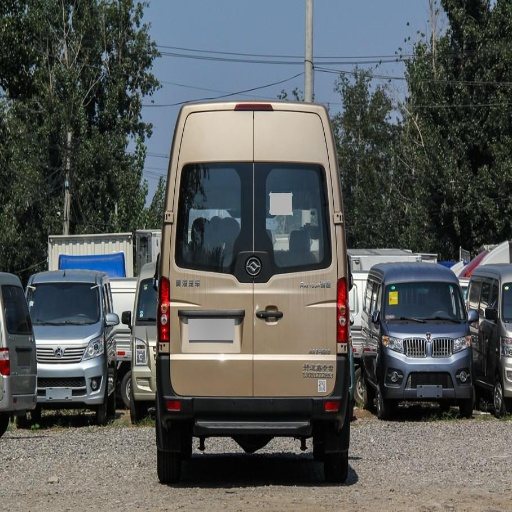_background_: (373, 350, 464, 401)
back_left_door: (155, 279, 168, 354)
back_left_light: (173, 189, 261, 400), (269, 201, 306, 247)
back_right_light: (453, 331, 478, 389)
front_left_light: (251, 222, 334, 397)
tailgate: (352, 299, 451, 356)
trunk: (157, 411, 192, 483), (314, 420, 349, 482)
